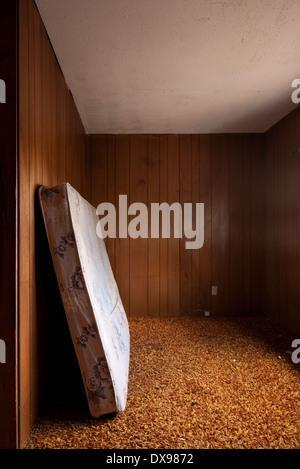Bed-Mattress: (38, 184, 130, 418)
